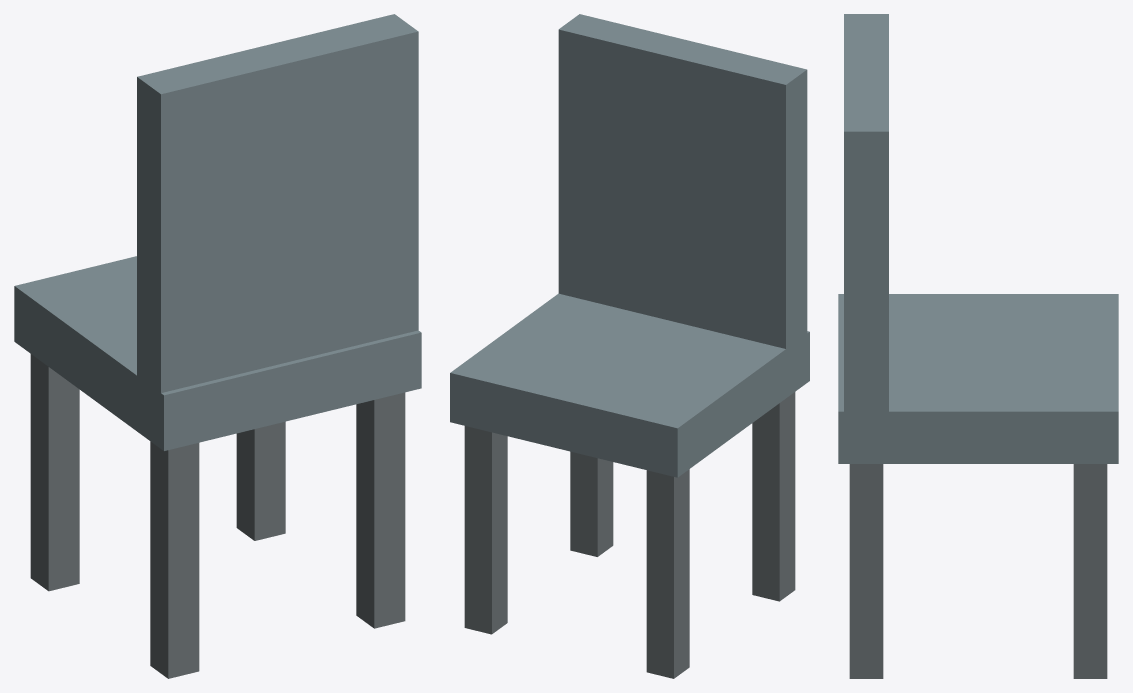
File: iz2_dental_chair.glb
3 renders of one model, left to right at view 1: azimuth 30°, elevation 25°; view 2: azimuth 150°, elevation 25°; view 3: azimuth 270°, elevation 25°, orthographic. The views are drawn at different scales.
Parts seen in each view (by area): view 1: body; view 2: body; view 3: body.
Part boxes in pixels (left/top/right/bottom): body: left=14, top=14, right=421, bottom=678; body: left=450, top=14, right=809, bottom=678; body: left=838, top=14, right=1118, bottom=678.
Size of the model in its own units: 0.4884 by 1.07 by 0.4913.
